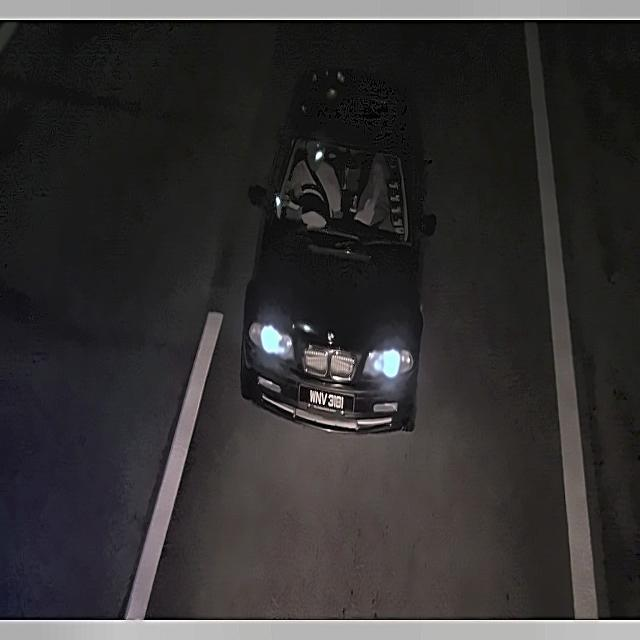car: (296, 383, 354, 421)
